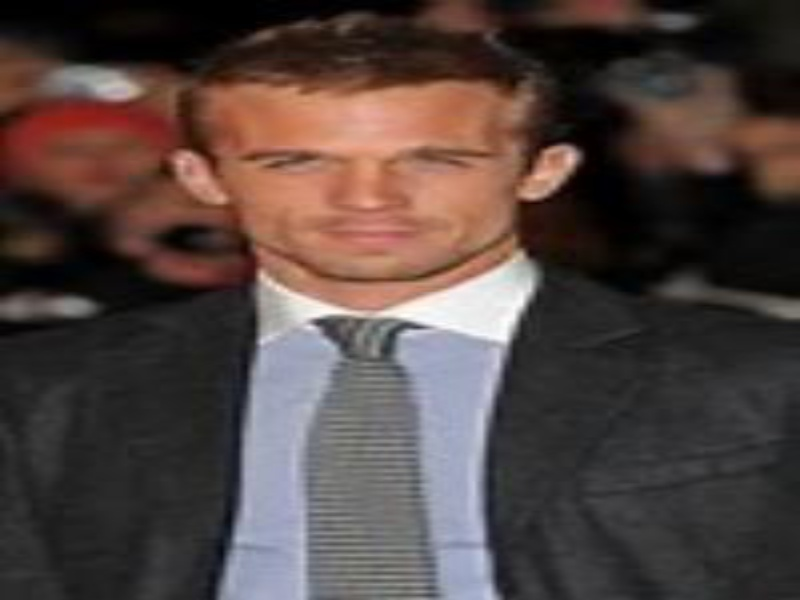TsisyArotava: (155, 45, 618, 294)
